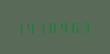eight: (50, 20, 60, 33)
four: (28, 20, 38, 34)
nine: (61, 19, 71, 33)
one: (17, 20, 27, 34)
seven: (39, 20, 49, 34)
six: (72, 19, 82, 33)
three: (83, 19, 93, 33)
